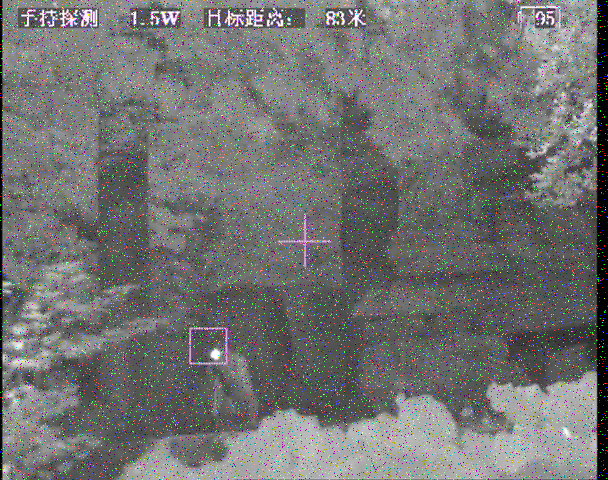my: (209, 347, 222, 361)
